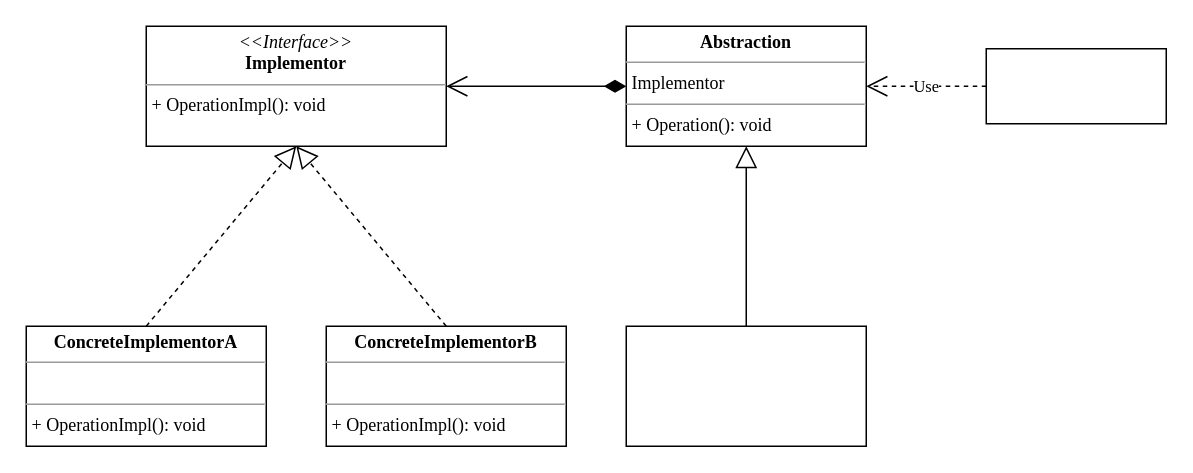
Image size: 1193x473. Some labels were removed from this diagram. Here are the shapes that lost their labels. From the top down, the box of each, then its label:
(985, 47, 1166, 124): Client
(625, 325, 866, 446): RefinedAbstraction Implementor + Operation(): void
